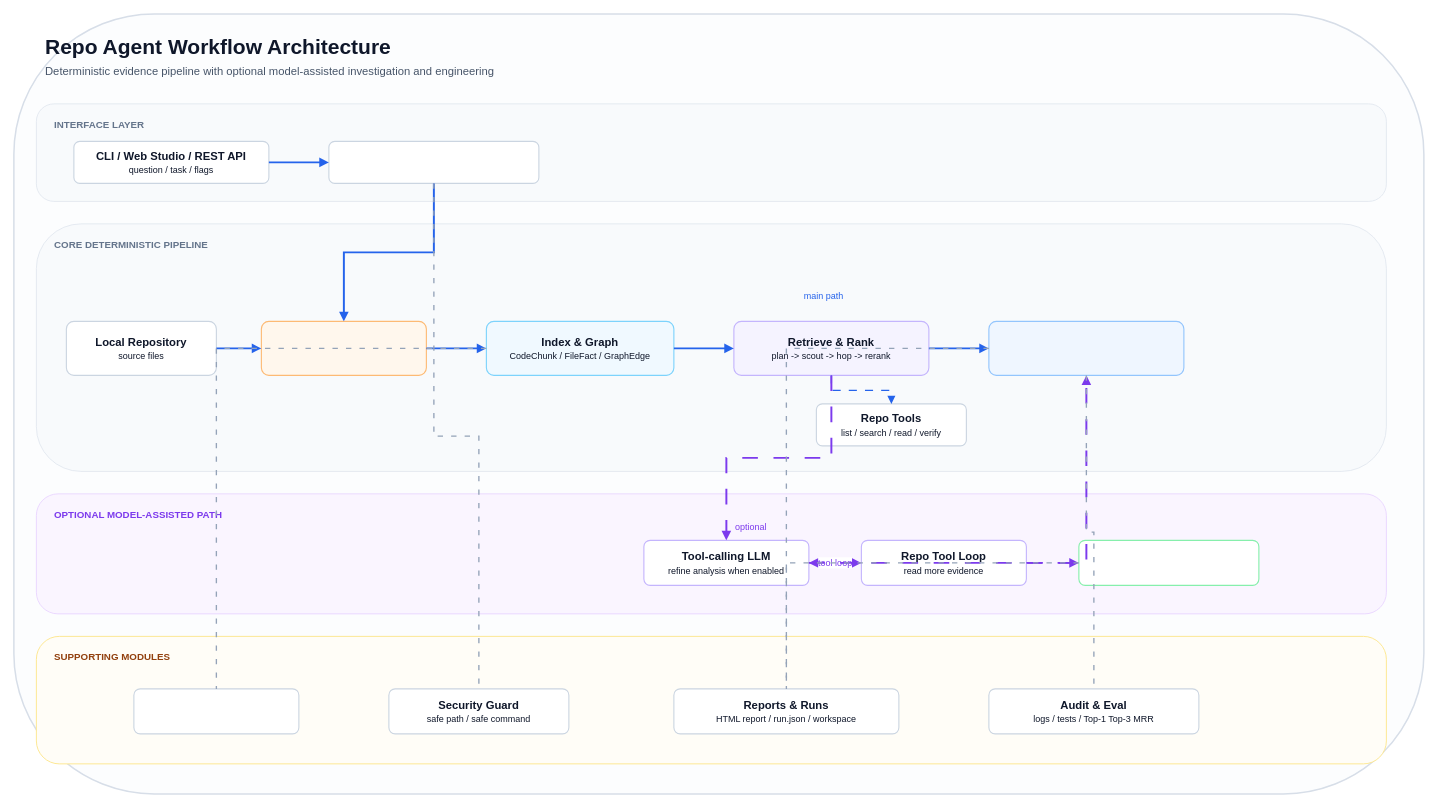
The diagram is 1437 pixels wide and 807 high, and some of its shapes have lost their labels. The centre of each missing label's shape, as x and y in pixels:
Grounded Answer answer / evidence / trace / report: point 1086,348
Index Cache .cache / signatures: point 216,711
Parse & Chunk symbols / routes / calls: point 343,348
Runtime Orchestrator validate / dispatch / load index: point 433,162
Workspace Sandbox inspect / edit / verify / apply: point 1168,562
